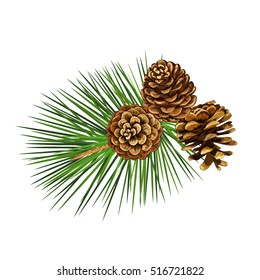Pc: (174, 99, 237, 170), (139, 59, 197, 122), (106, 104, 163, 160)
